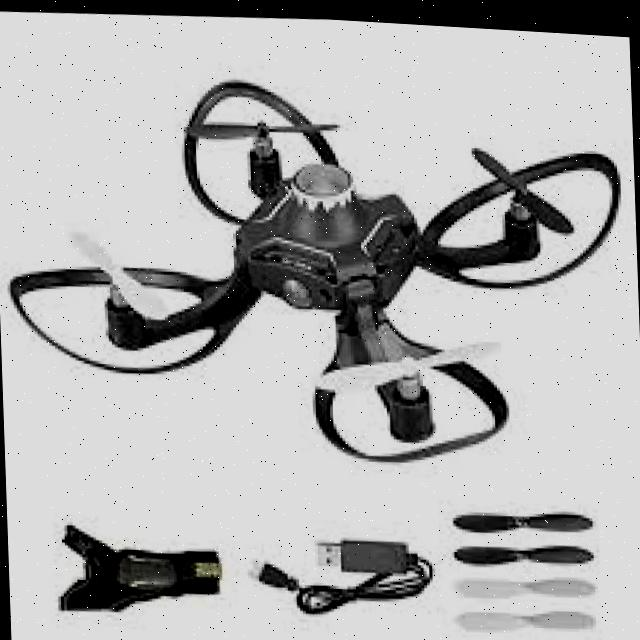drone: (0, 57, 640, 499)
